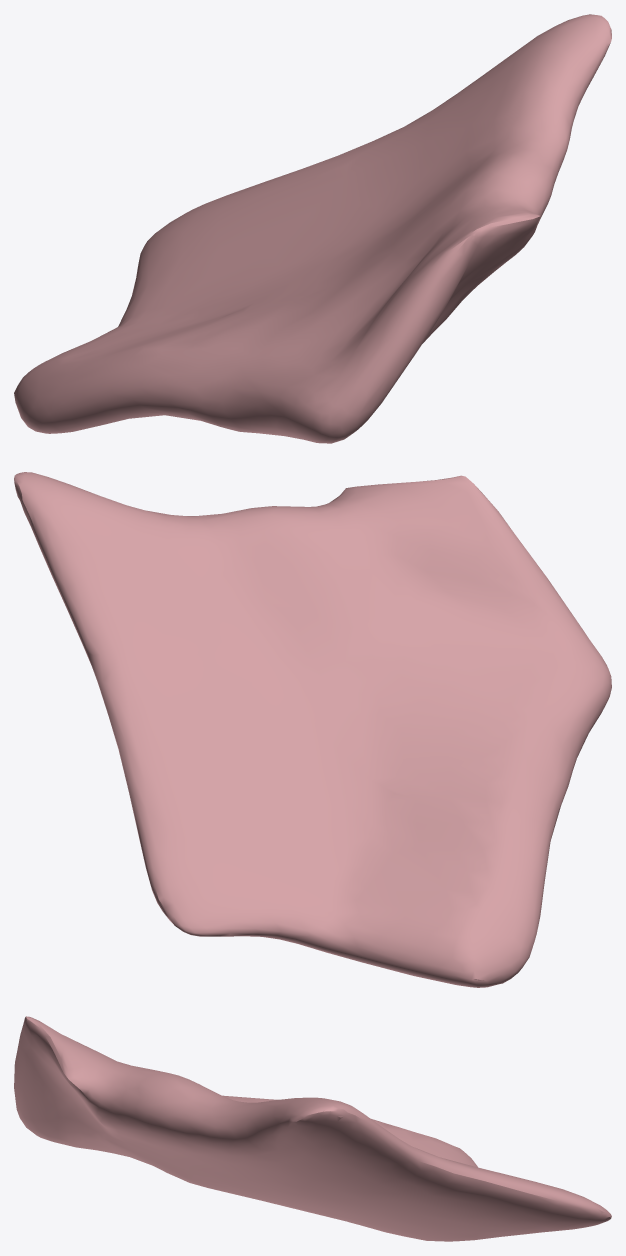
The model's file is fma275331_mm3385m.glb.
3 renders of one model, top to bottom at view 1: azimuth 30°, elevation 25°; view 2: azimuth 150°, elevation 25°; view 3: azimuth 270°, elevation 25°, orthographic. The views are drawn at different scales.
Visible parts, largest first — view 1: FMA275331_MM3385M; view 2: FMA275331_MM3385M; view 3: FMA275331_MM3385M.
Part boxes in pixels (box(x1,y1,x2,y2)): FMA275331_MM3385M: box(14, 14, 611, 443); FMA275331_MM3385M: box(14, 472, 611, 987); FMA275331_MM3385M: box(14, 1016, 611, 1241).
Size of the model in its own units: 0.0292 by 0.0172 by 0.0287.
